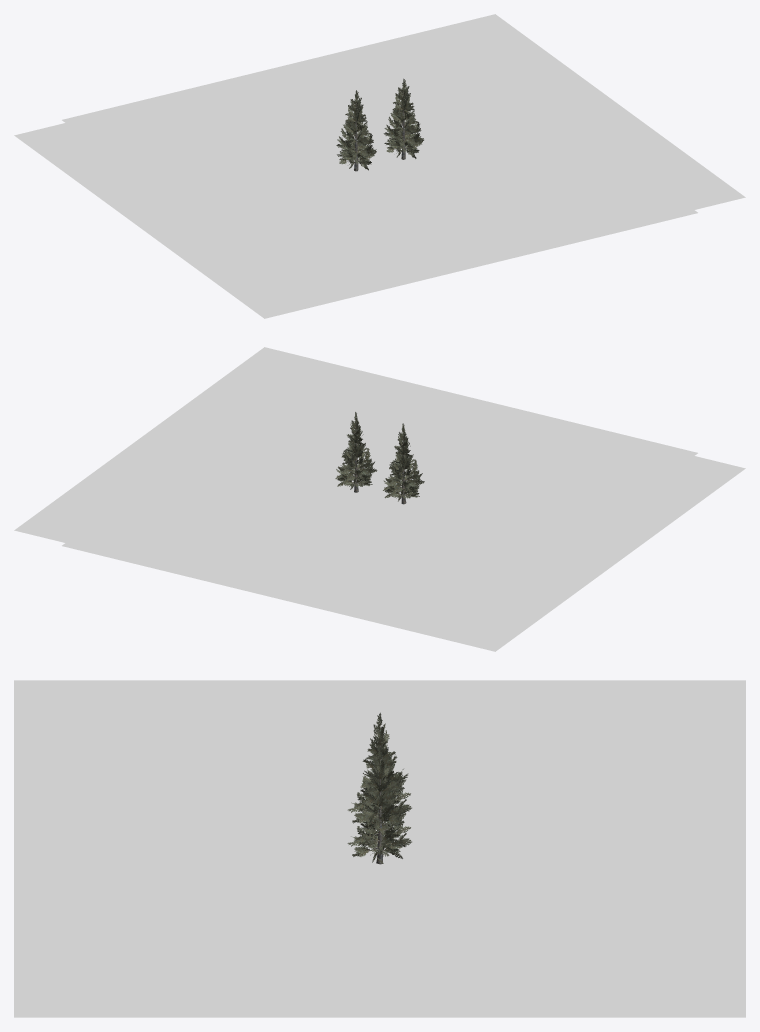
The model's file is SpruceOmm.glb.
The picture shows the model from 3 angles, top to bottom: view 1: azimuth 30°, elevation 25°; view 2: azimuth 150°, elevation 25°; view 3: azimuth 270°, elevation 25°; orthographic projection. The views are drawn at different scales.
Visible parts, largest first — view 1: Plane (×2), Spruce_LOD0 (×2); view 2: Plane (×2), Spruce_LOD0 (×2); view 3: Plane (×2), Spruce_LOD0 (×2).
Boxes of the visible parts, <box> form: Plane (×2): <box>14,14,745,318</box>; Spruce_LOD0 (×2): <box>336,78,423,171</box>; Plane (×2): <box>14,347,745,651</box>; Spruce_LOD0 (×2): <box>335,412,424,504</box>; Plane (×2): <box>14,680,745,1017</box>; Spruce_LOD0 (×2): <box>347,712,411,864</box>.
Bounding box in the file's own units: 104 × 17.42 × 93.84.
Materials: 6 (4 with a texture image).
